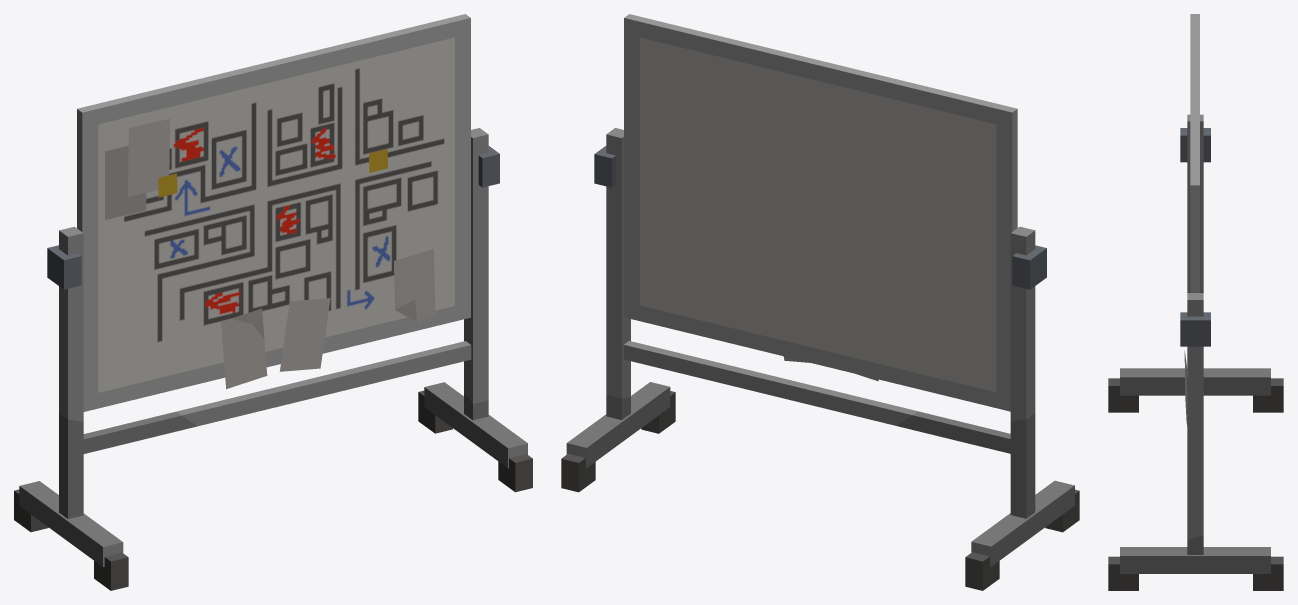
The model's file is AI_Prop_Whiteboard.fbx.
3 renders of one model, left to right at view 1: azimuth 30°, elevation 25°; view 2: azimuth 150°, elevation 25°; view 3: azimuth 270°, elevation 25°, orthographic. The views are drawn at different scales.
Parts seen in each view (by area): view 1: AI_Prop_Whiteboard; view 2: AI_Prop_Whiteboard; view 3: AI_Prop_Whiteboard.
Part boxes in pixels (left/top/right/bottom): AI_Prop_Whiteboard: left=14, top=14, right=532, bottom=590; AI_Prop_Whiteboard: left=561, top=14, right=1079, bottom=590; AI_Prop_Whiteboard: left=1108, top=14, right=1283, bottom=590.
Bounding box in the file's own units: 3.59 × 3.47 × 1.38.
